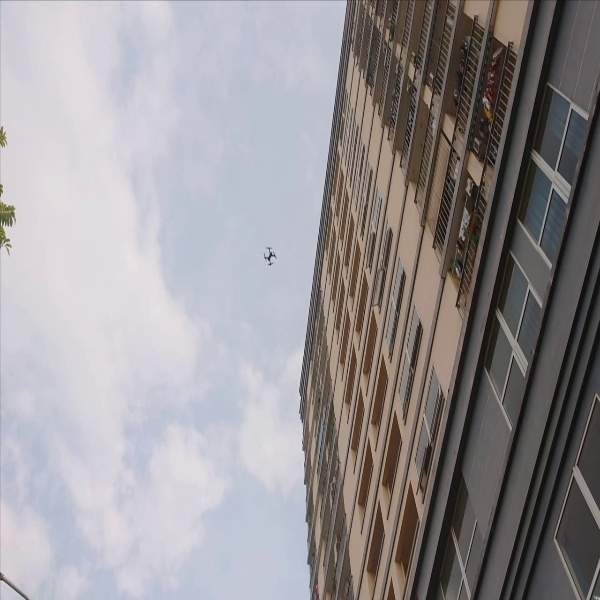drone: (256, 242, 285, 271)
